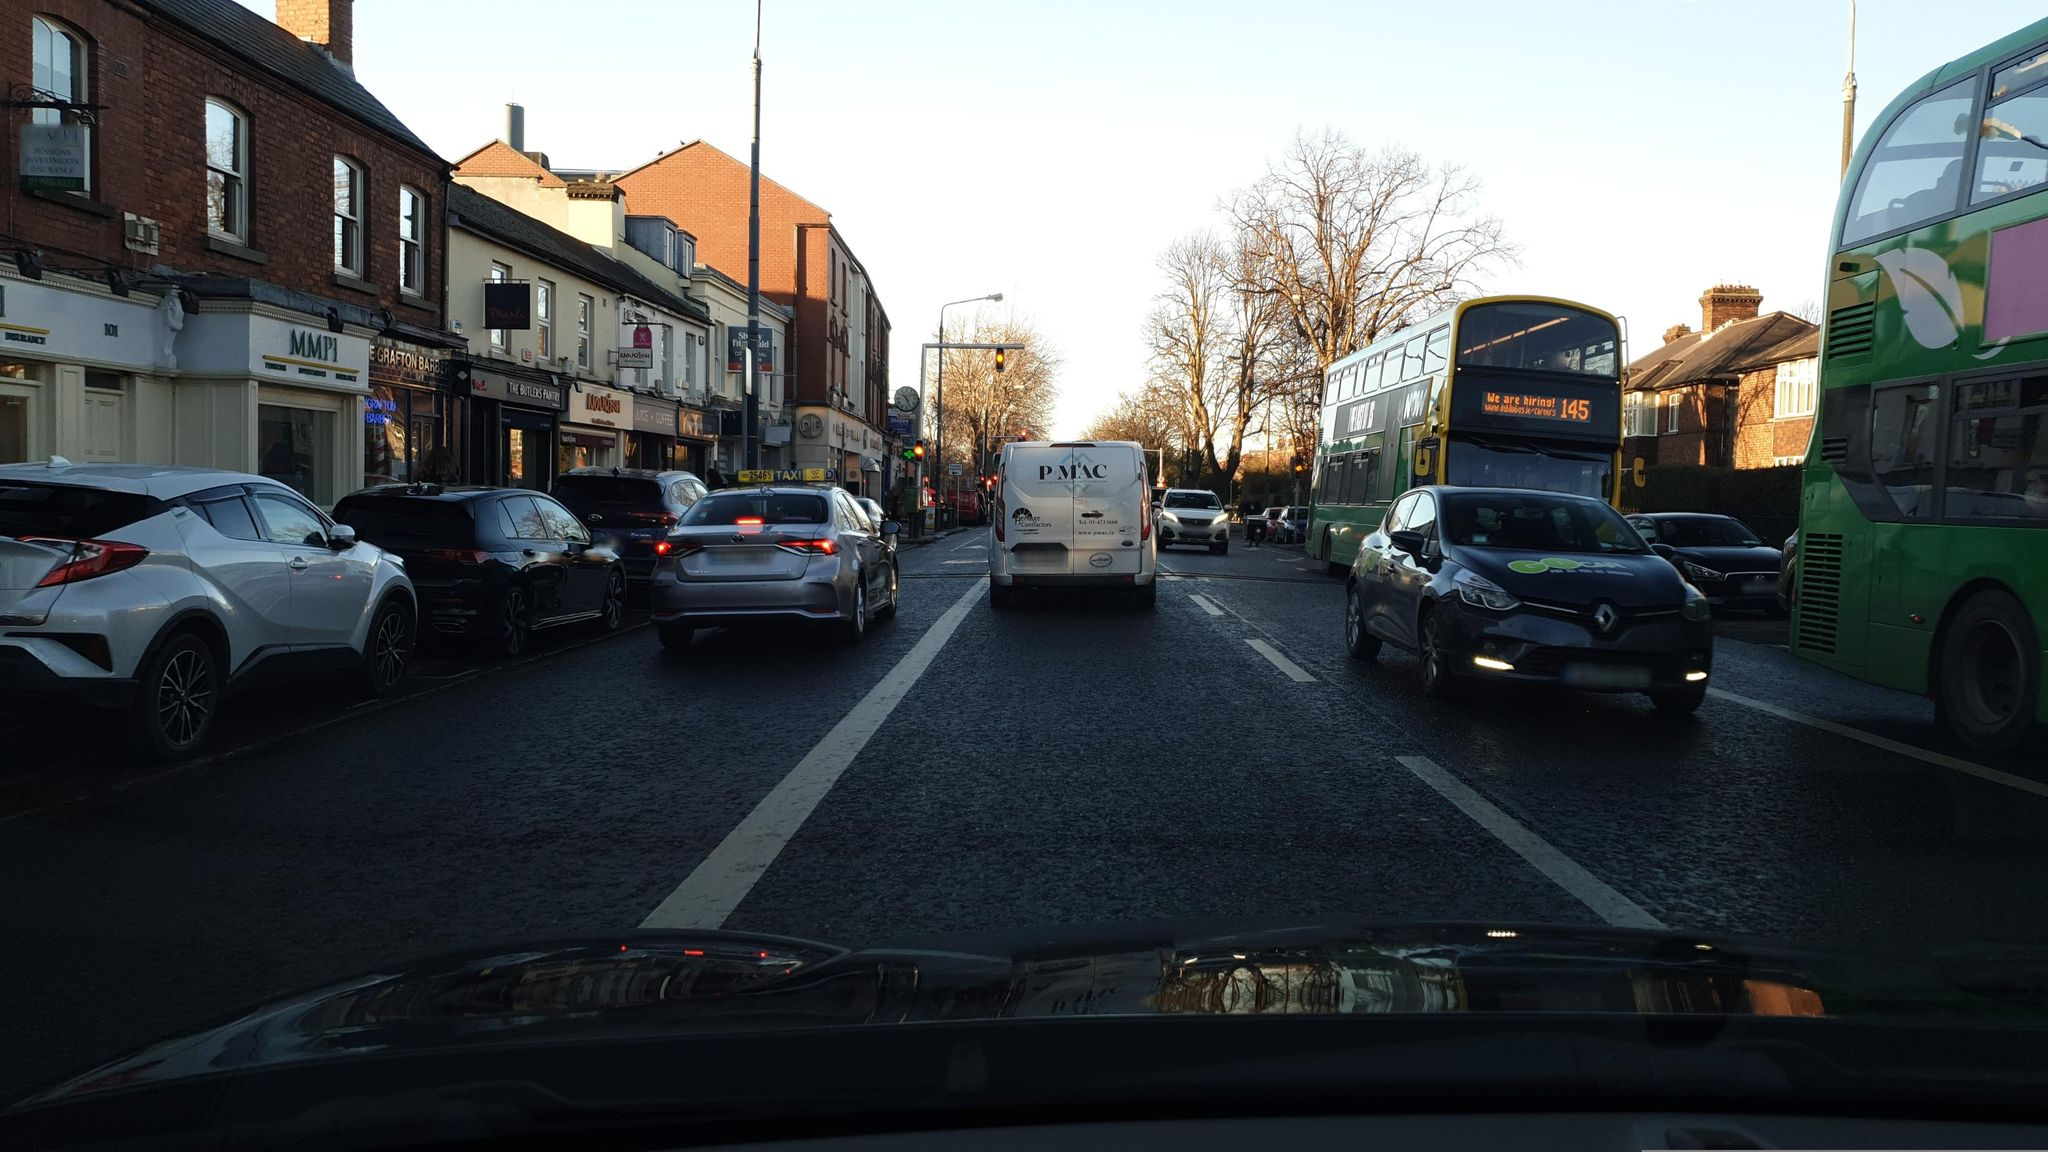property sign: (715, 312, 781, 385)
